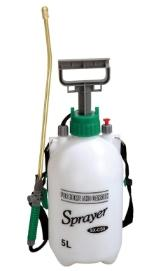PULVERISATEUR: (26, 0, 167, 271)
